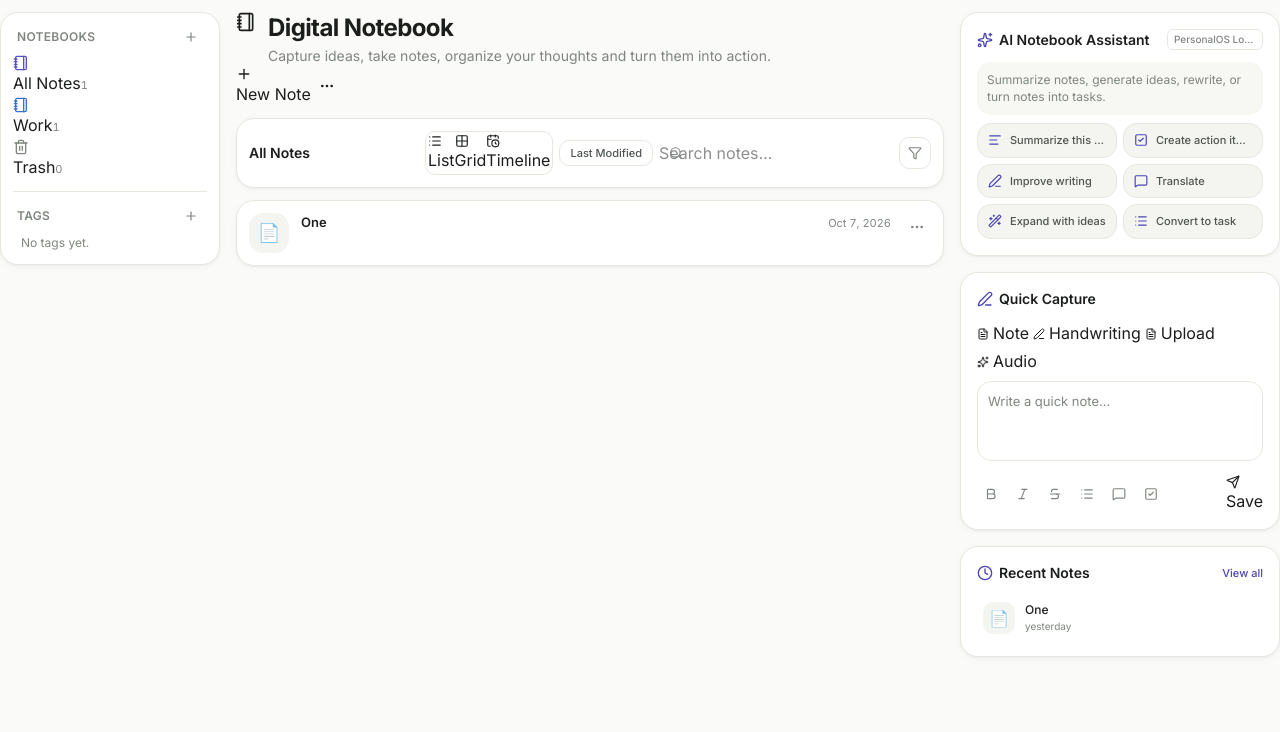
note list and layouts › switches between list, grid and timeline
Click the button with test id "notebook-layout-grid": (470, 153) [455,134,486,172]
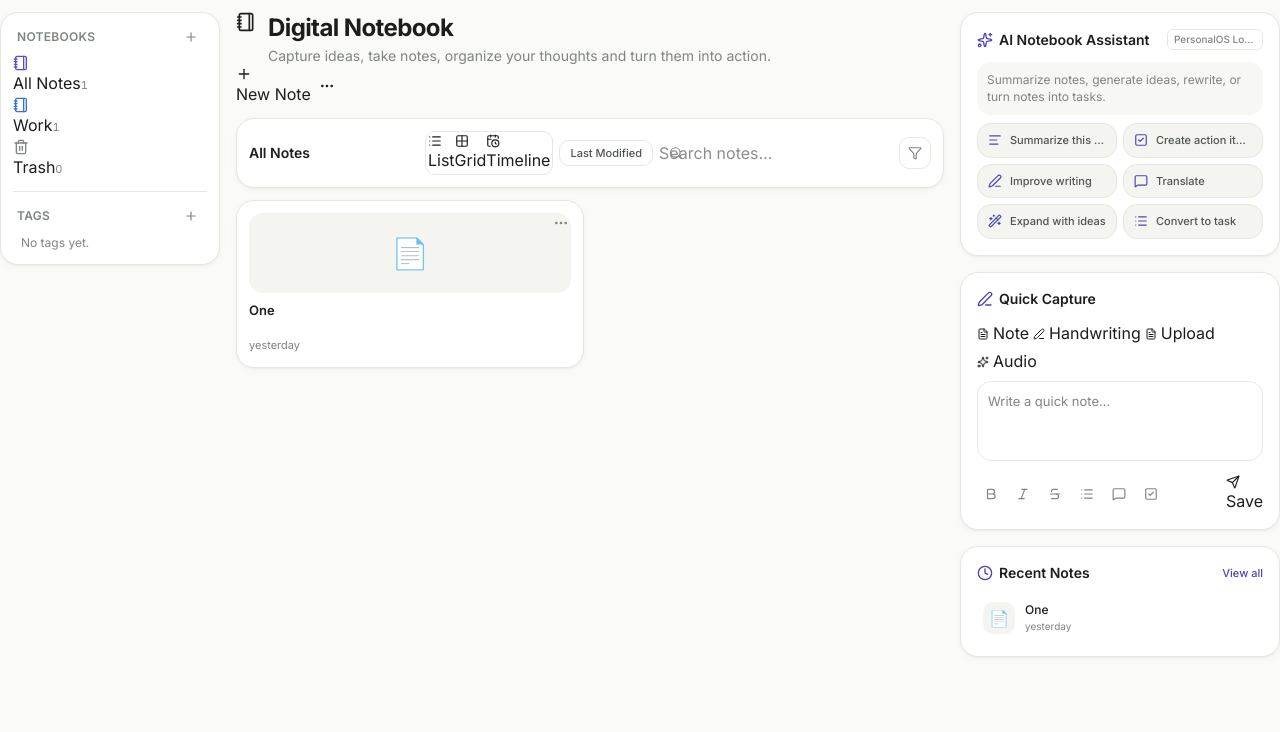
Check: the list item with test id "notebook-note-card" is shown, box [236,200,584,368]
Click the button with test id "notebook-layout-timeline": (518, 153) [486,134,550,172]
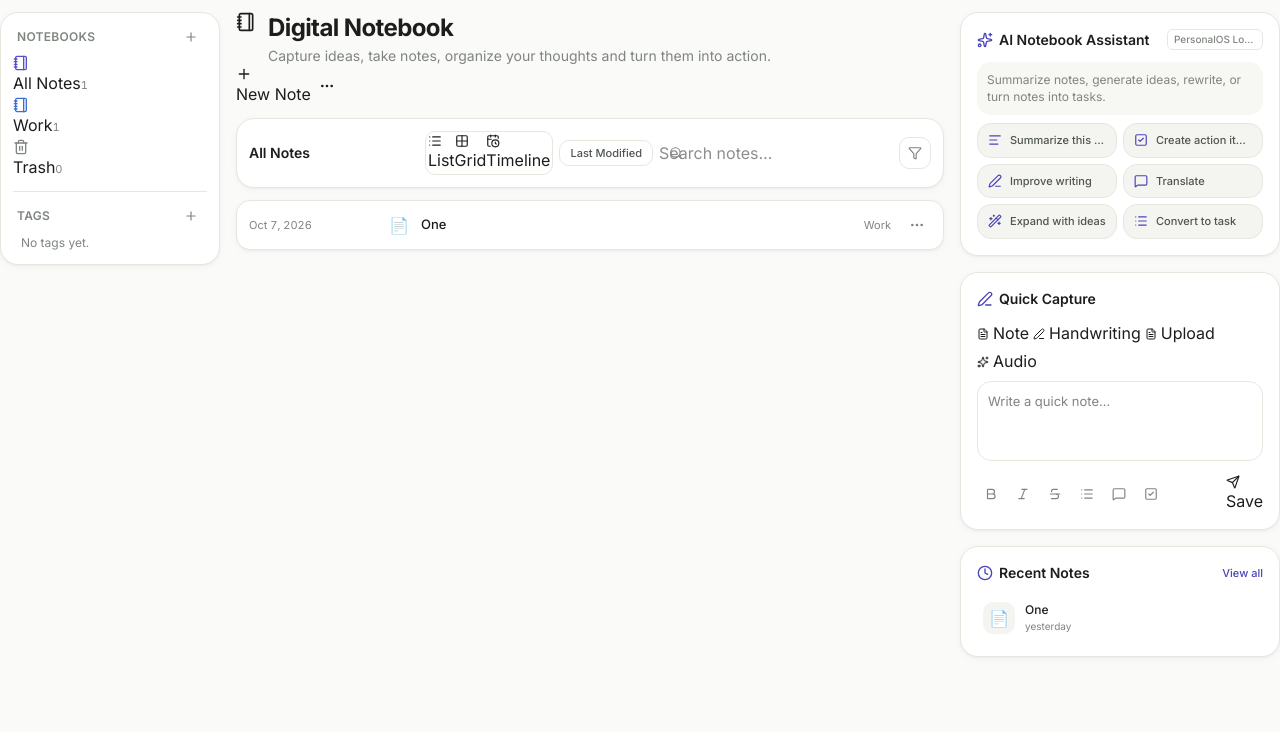
Check: the list with test id "notebook-timeline" is shown, box [236,200,944,250]
Click the button with test id "notebook-layout-list": (441, 153) [428,134,455,172]
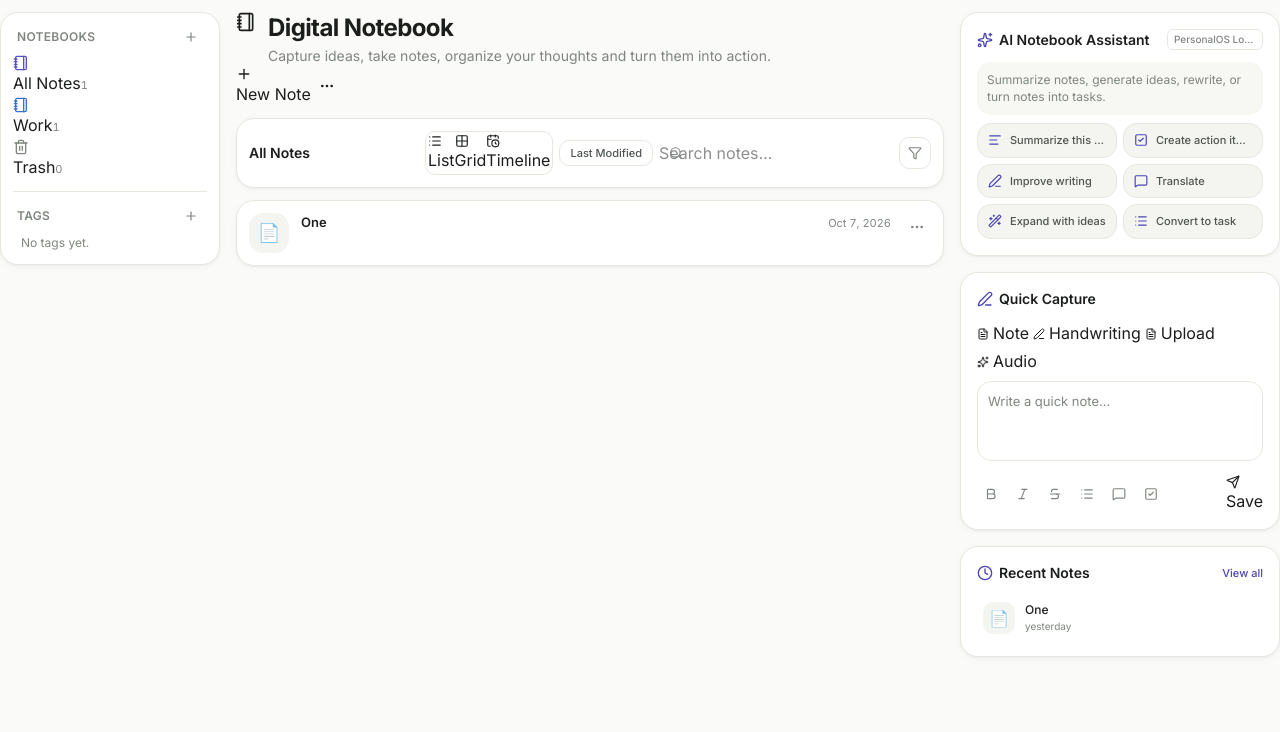
Check: the list with test id "notebook-list" is shown, box [236,200,944,266]
